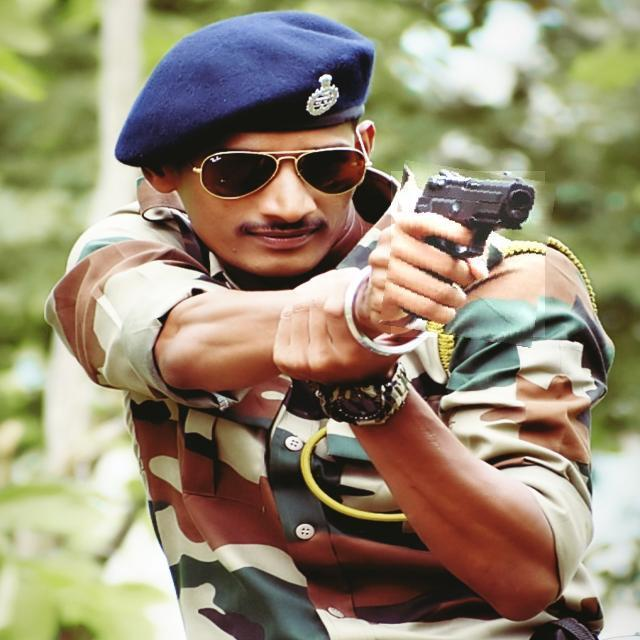handgun: (385, 166, 551, 343)
